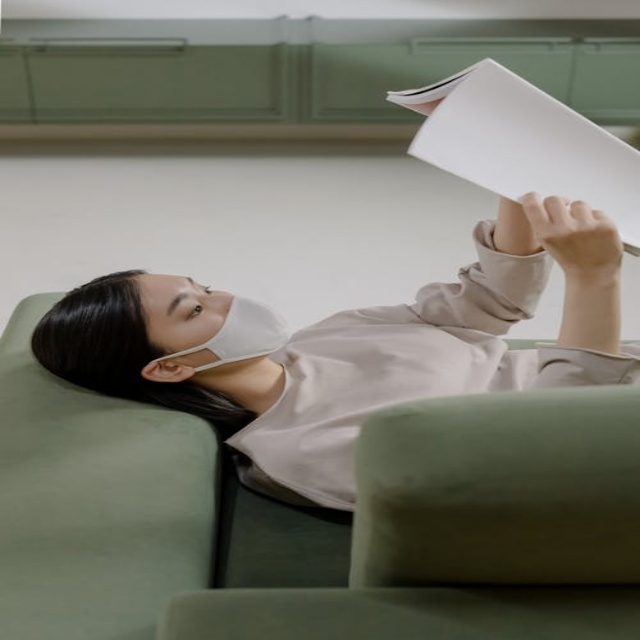Mascara: (146, 293, 289, 375)
Sin_gafas: (160, 274, 212, 329)
Sin_guantes: (521, 191, 625, 271)
